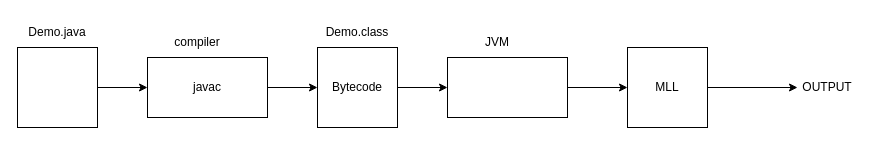
Some shapes in this 875 by 145 pixel diagram are drawn without their labels. The shapes that lost their labels are listed below. From the top down, each one's box as (x1, y1, x2, y2) in pixels, then its label:
(16, 46, 98, 128): HLL
(446, 56, 568, 118): java
